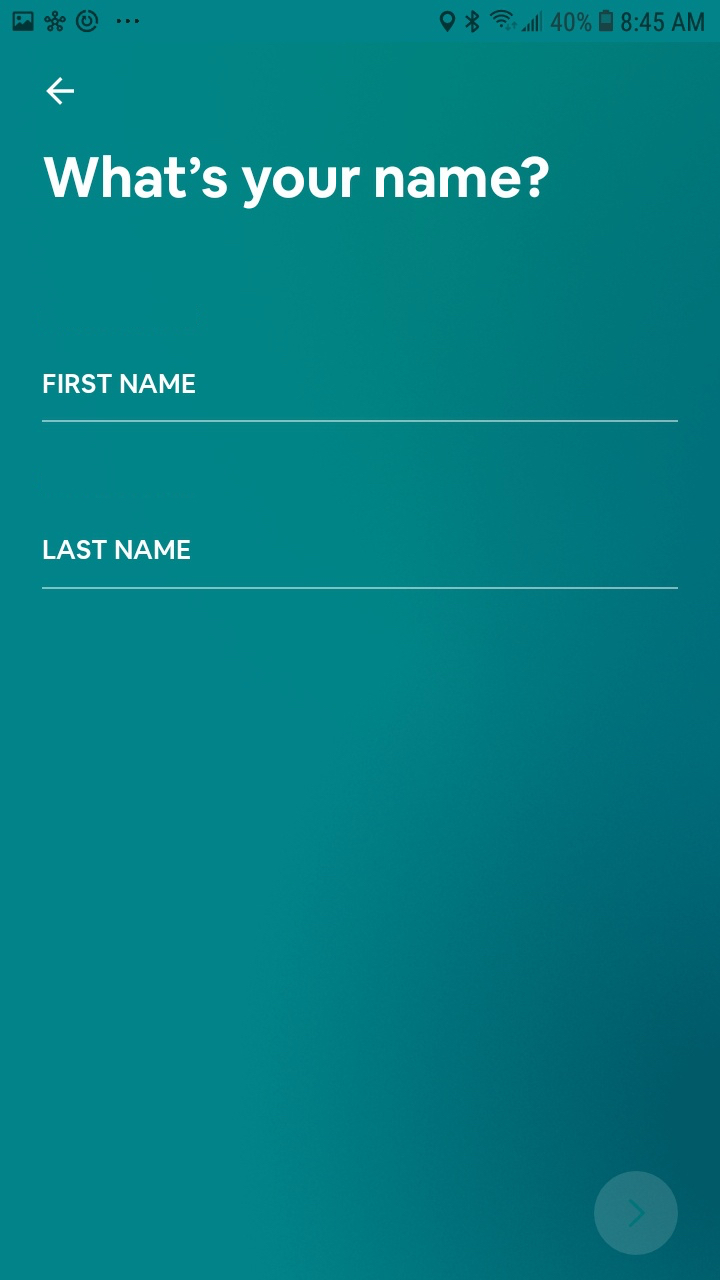EditText: (42, 373, 679, 423), (43, 540, 679, 590)
Icon: (593, 1170, 679, 1256), (47, 78, 76, 107)
Text: (43, 155, 549, 210), (44, 374, 196, 394), (44, 540, 191, 560)
UpperTaskBar: (1, 1, 720, 43)
